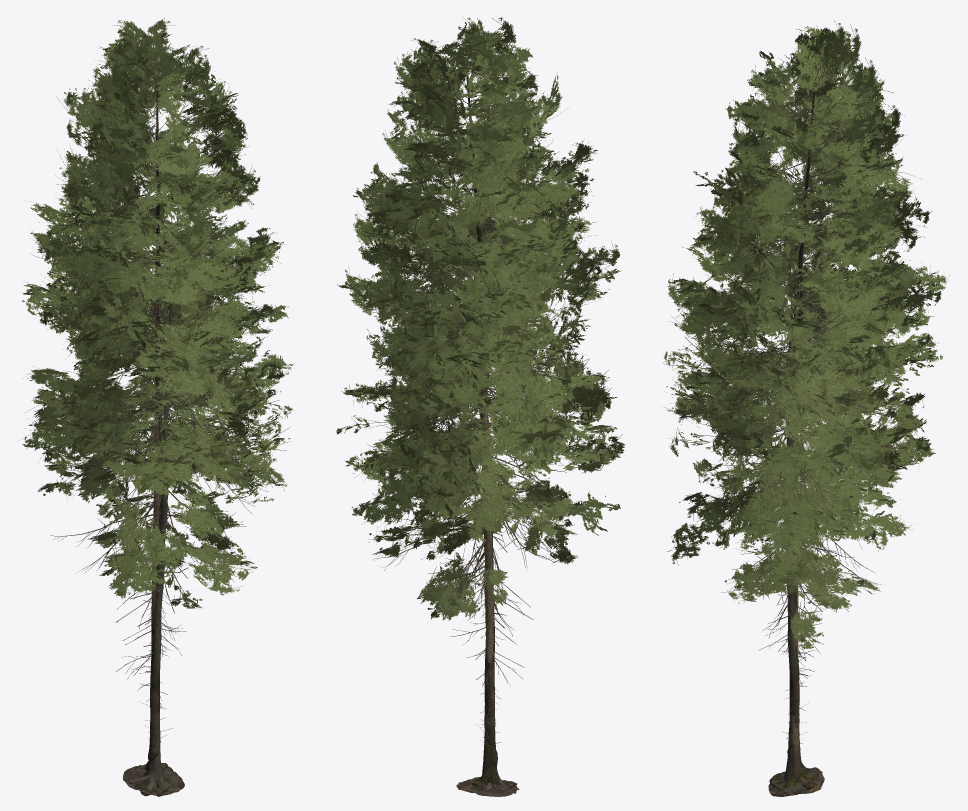
The model's file is fir.glb.
The picture shows the model from 3 angles, left to right: view 1: azimuth 30°, elevation 25°; view 2: azimuth 150°, elevation 25°; view 3: azimuth 270°, elevation 25°; orthographic projection. The views are drawn at different scales.
Parts seen in each view (by area): view 1: fir_a_LOD0, fir_b_LOD0, fir_c_LOD0; view 2: fir_a_LOD0, fir_b_LOD0, fir_c_LOD0; view 3: fir_a_LOD0, fir_b_LOD0, fir_c_LOD0.
Boxes of the visible parts, <box> form: fir_a_LOD0: <box>21,18,293,796</box>; fir_b_LOD0: <box>31,212,290,793</box>; fir_c_LOD0: <box>50,211,293,795</box>; fir_a_LOD0: <box>337,17,620,794</box>; fir_b_LOD0: <box>367,215,625,796</box>; fir_c_LOD0: <box>336,187,601,796</box>; fir_a_LOD0: <box>664,21,949,794</box>; fir_b_LOD0: <box>666,233,935,796</box>; fir_c_LOD0: <box>663,220,926,792</box>.
Size of what is drawn, in the model's own units: 7.01 by 19.11 by 6.7.
8 materials, 8 textured.
